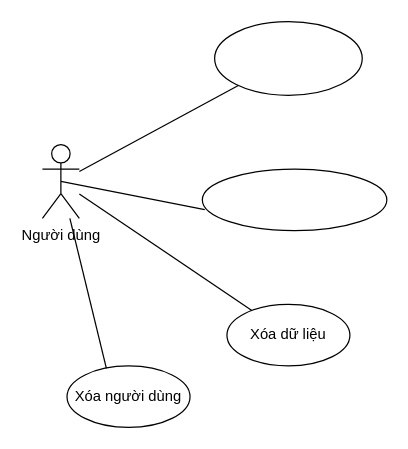
Image size: 408x449. Some labels were removed from this diagram. Each missing label, with the centre of its shape:
Xem danh sách người dùng trong nhóm: pixel 294 199
Đóng góp thêm từ vựng, ngữ pháp: pixel 287 57
